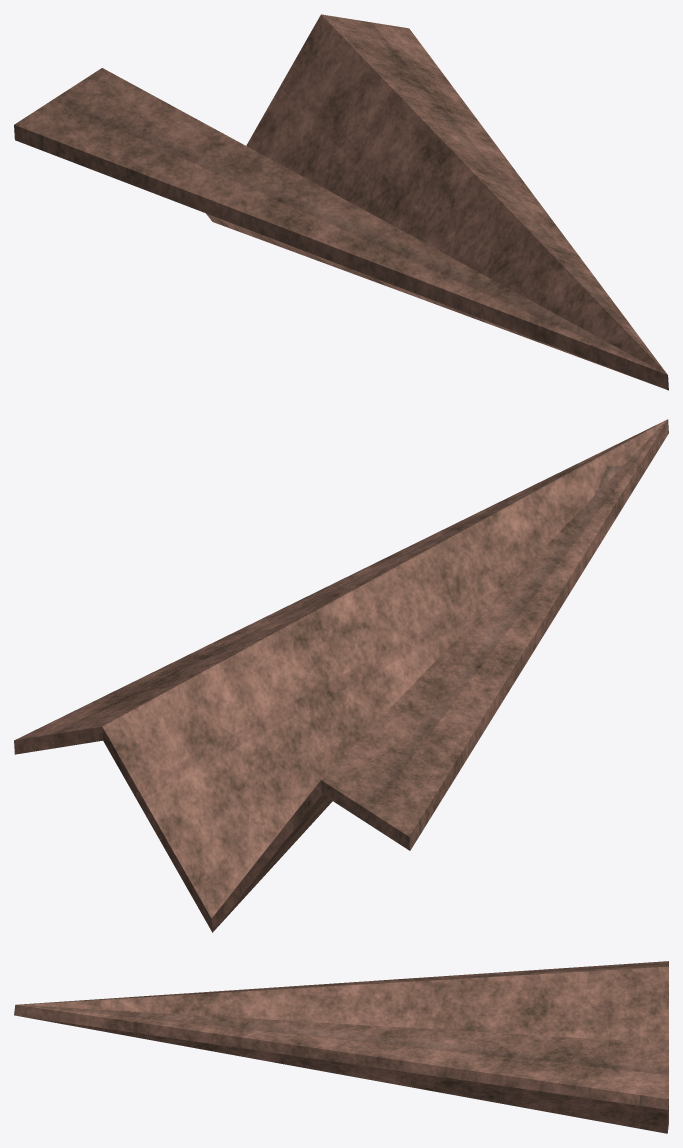
File: Paper Plane Perkament.fbx
The picture shows the model from 3 angles, top to bottom: view 1: azimuth 30°, elevation 25°; view 2: azimuth 150°, elevation 25°; view 3: azimuth 270°, elevation 25°; orthographic projection. The views are drawn at different scales.
Visible parts, largest first — view 1: V2 Vliegtuigje Papier.001; view 2: V2 Vliegtuigje Papier.001; view 3: V2 Vliegtuigje Papier.001.
Boxes of the visible parts, x1,y1,x2,y2 form: V2 Vliegtuigje Papier.001: (14,14,668,390); V2 Vliegtuigje Papier.001: (14,419,668,932); V2 Vliegtuigje Papier.001: (14,961,668,1133).
Size of the model in its own units: 100 by 200 by 43.58.
